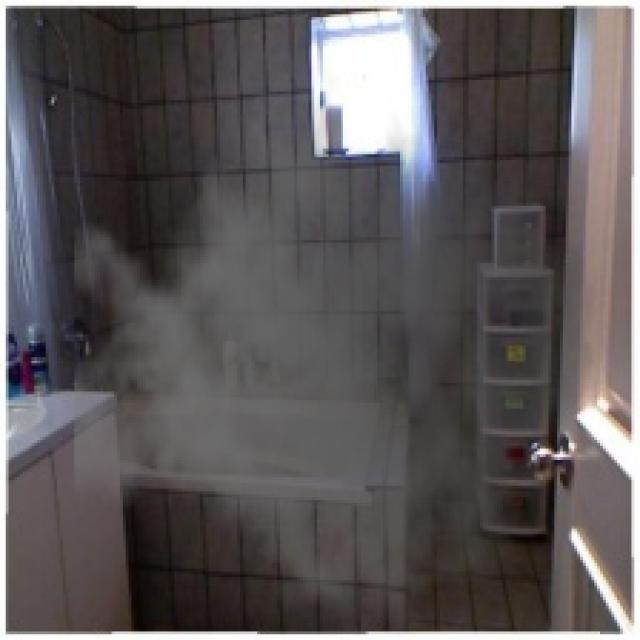Smoke: (74, 68, 597, 638)
